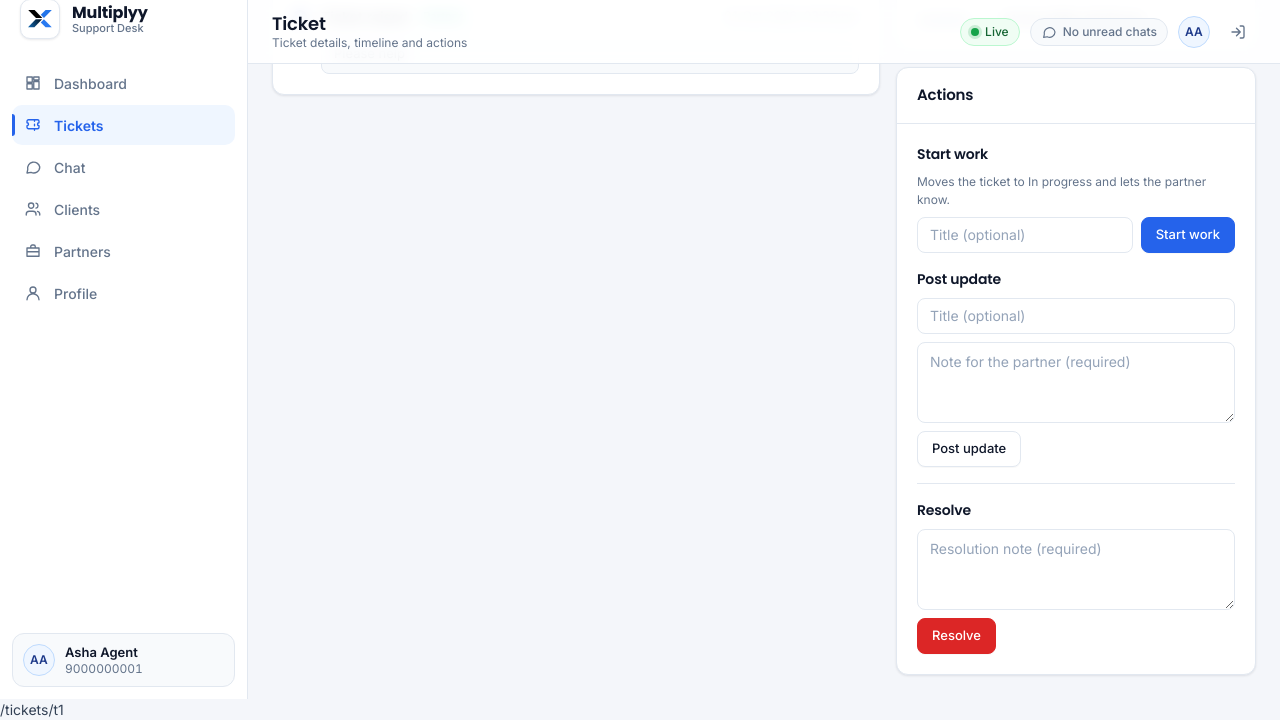
ticket detail › renders the ticket; resolve requires a note, then confirm, then posts the status
(page scrolled)
Check: the text "Ticket raised" is shown, box [321,6,408,27]
Click the button "Resolve": click(956, 636) [917,618,996,654]
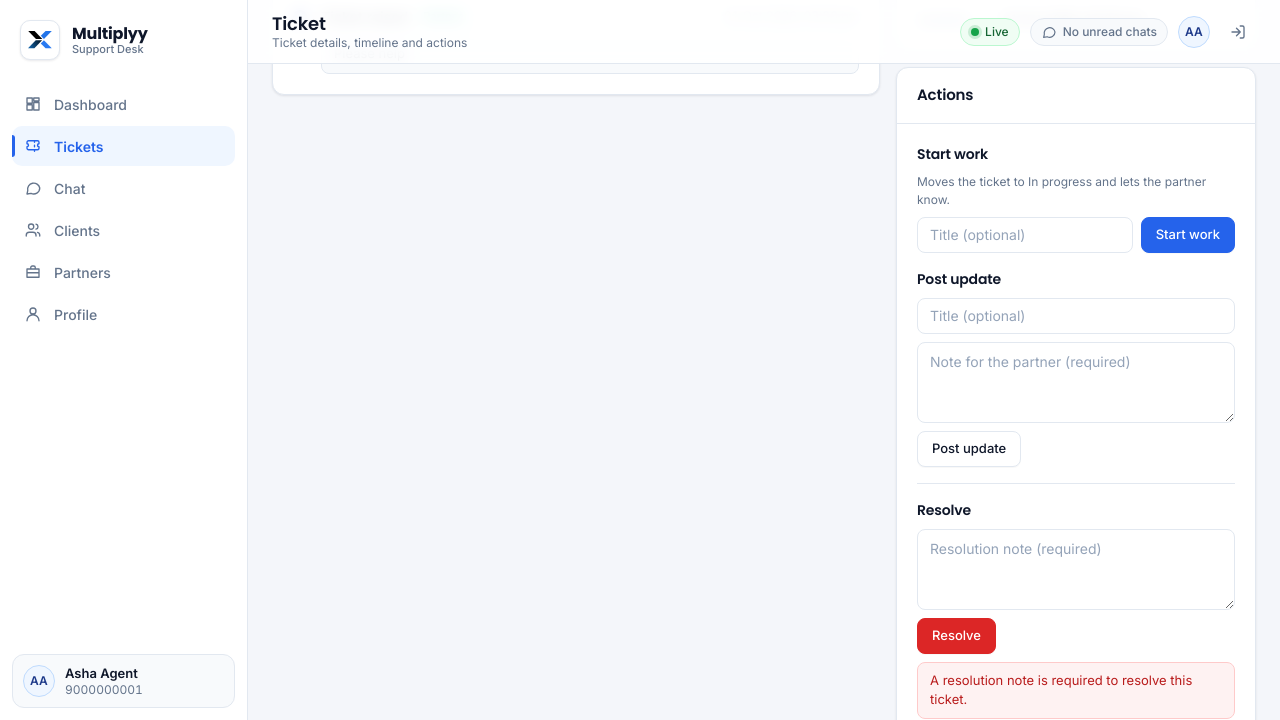
Check: the message shows "A resolution note is required", box [930,672,1192,707]
In the text box labelled "Resolution note": (1076, 569) [917,528,1235,610], type "Fixed KYC"
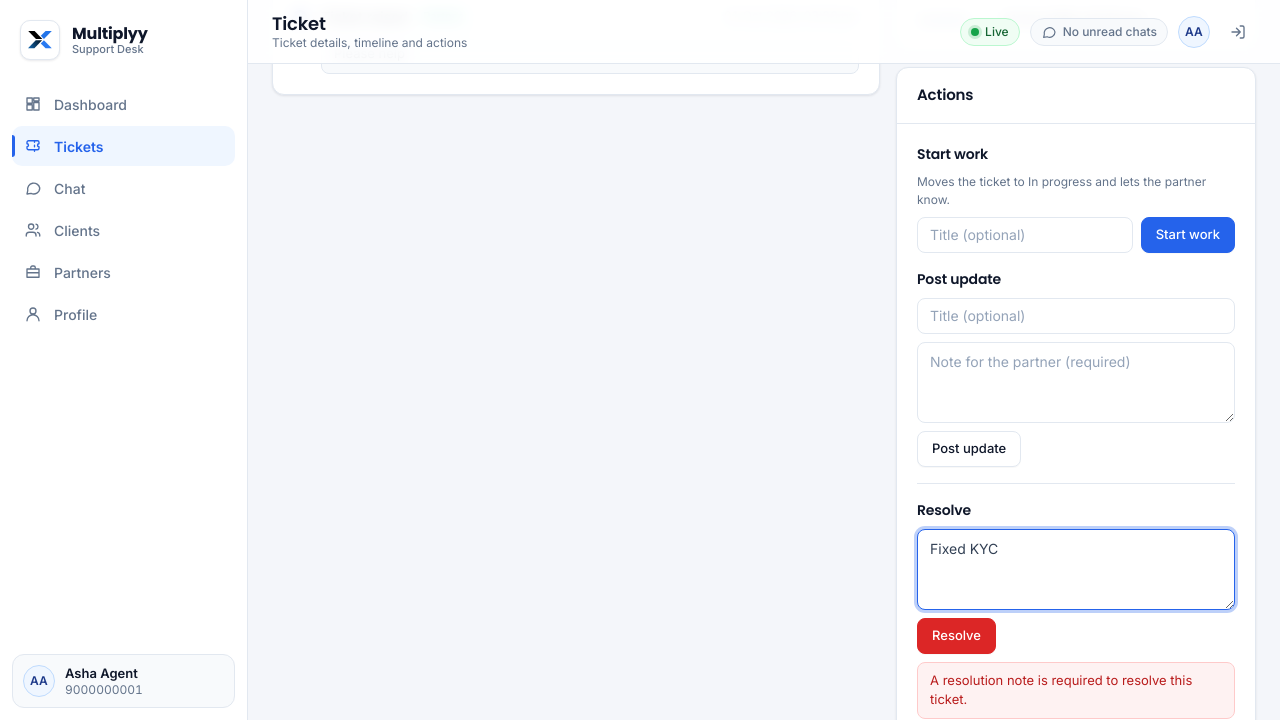
Click the button "Resolve": click(956, 636) [917,618,996,654]
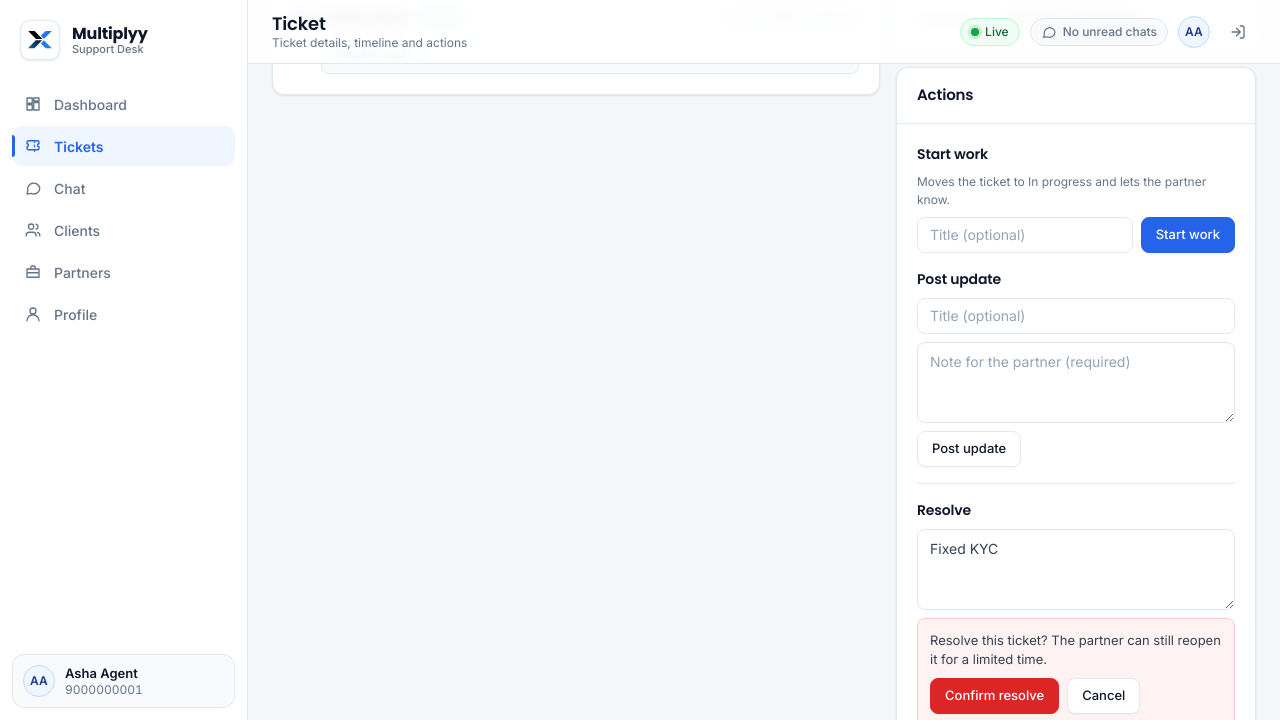
Click the button "Confirm resolve": click(995, 696) [930,678,1059,714]
(page scrolled)
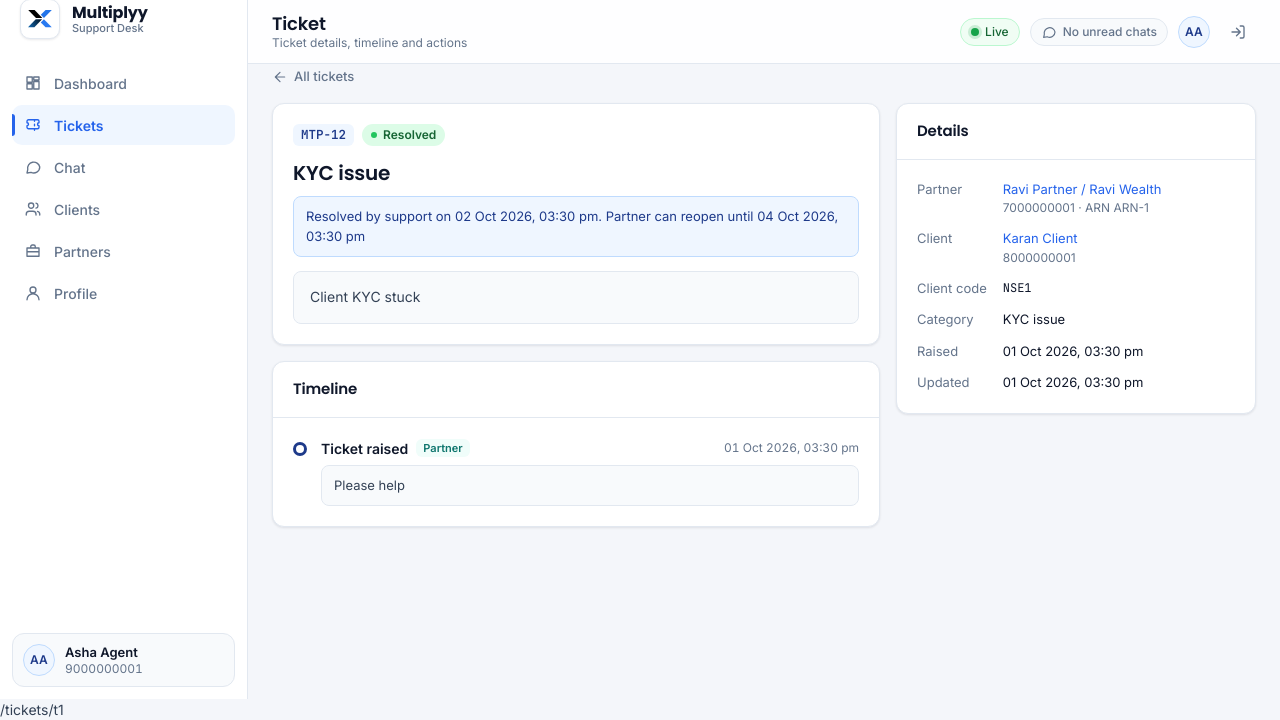
Check: the text "Partner can reopen until" is shown, box [306,208,838,244]
